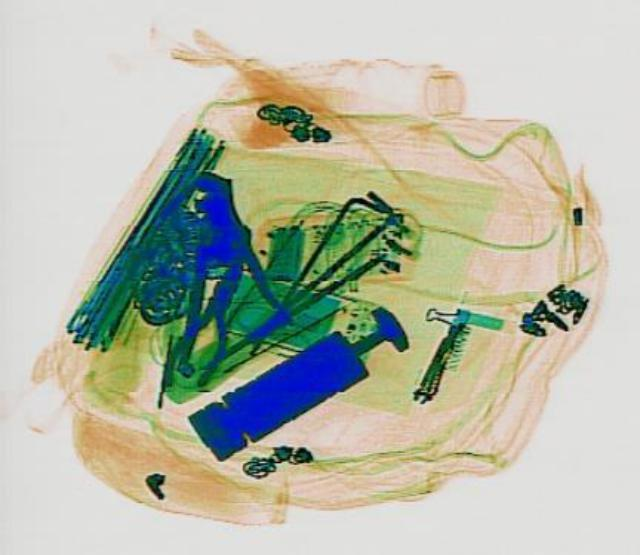Pliers: (142, 164, 300, 377), (160, 255, 260, 388)
